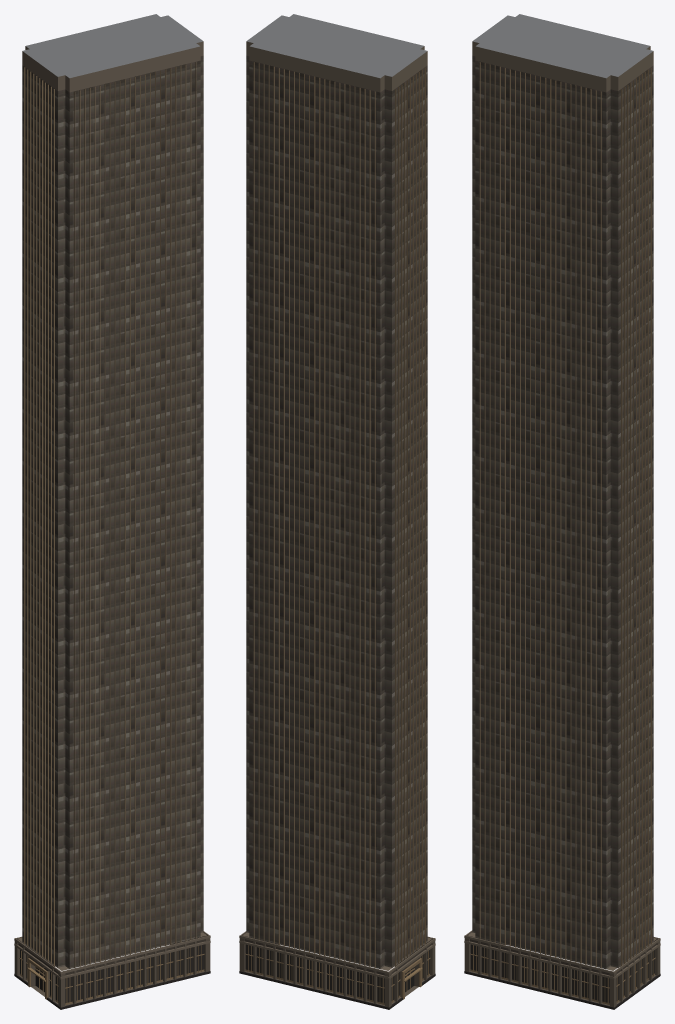
The model's file is trump_world_tower.glb.
3 renders of one model, left to right at view 1: azimuth 30°, elevation 25°; view 2: azimuth 150°, elevation 25°; view 3: azimuth 330°, elevation 25°, orthographic.
Visible parts, largest first — view 1: trump_world_tower; view 2: trump_world_tower; view 3: trump_world_tower.
Part boxes in pixels (box(x1,y1,x2,y2)): trump_world_tower: box(14, 14, 210, 1009); trump_world_tower: box(239, 14, 435, 1009); trump_world_tower: box(464, 14, 660, 1009).
Size of the model in its own units: 44.71 by 262 by 23.83.
2 materials, 2 textured.
